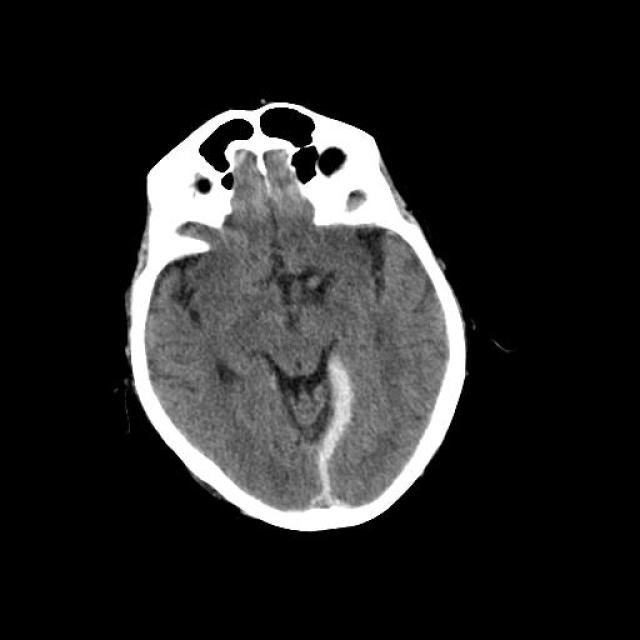Subdural: (310, 349, 359, 515)
